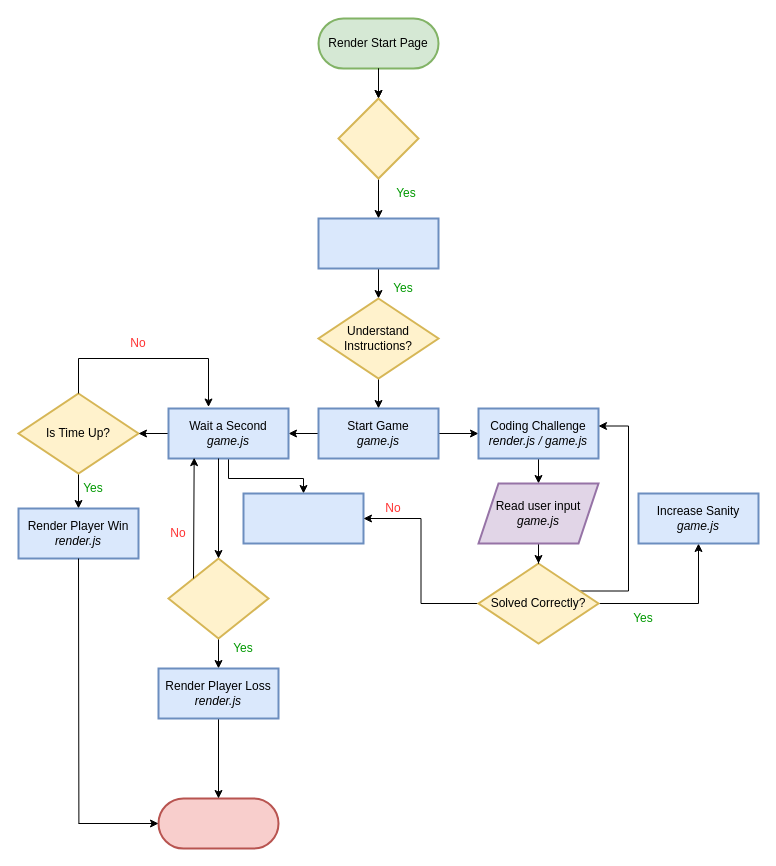
This 776x866 diagram has some shape labels left out. Here are the shapes that lost their labels. From the top down, the centre of each, then its label:
At pixel 378 138: "Start Game?".
At pixel 378 243: "Render Instructions render.js".
At pixel 303 518: "Reduce Sanity game.js".
At pixel 218 598: "Is Sanity Out?".
At pixel 218 823: "End Game".
